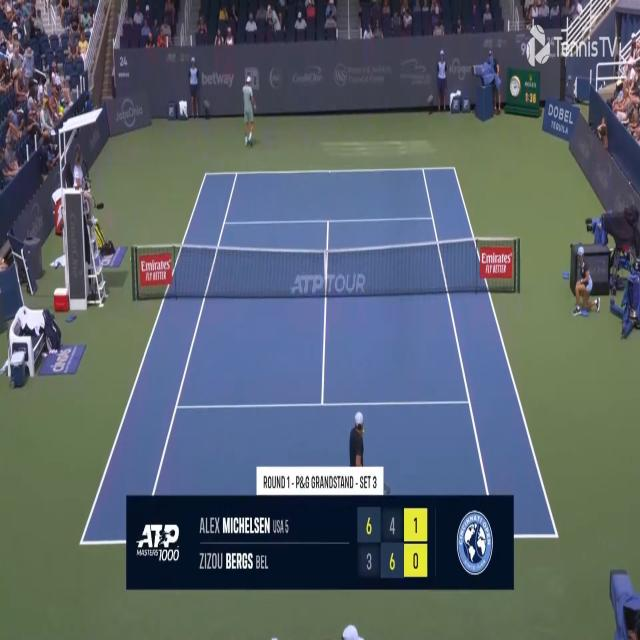tennis-player: (346, 409, 367, 492), (241, 74, 256, 148)
